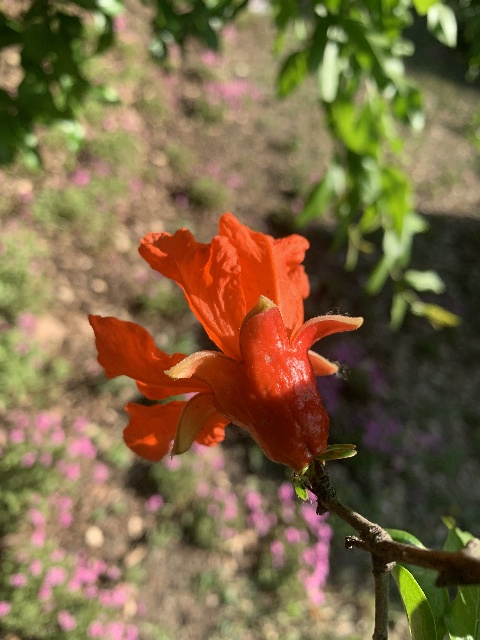flower: (86, 210, 361, 470)
